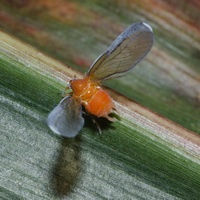insect: (47, 22, 152, 136)
